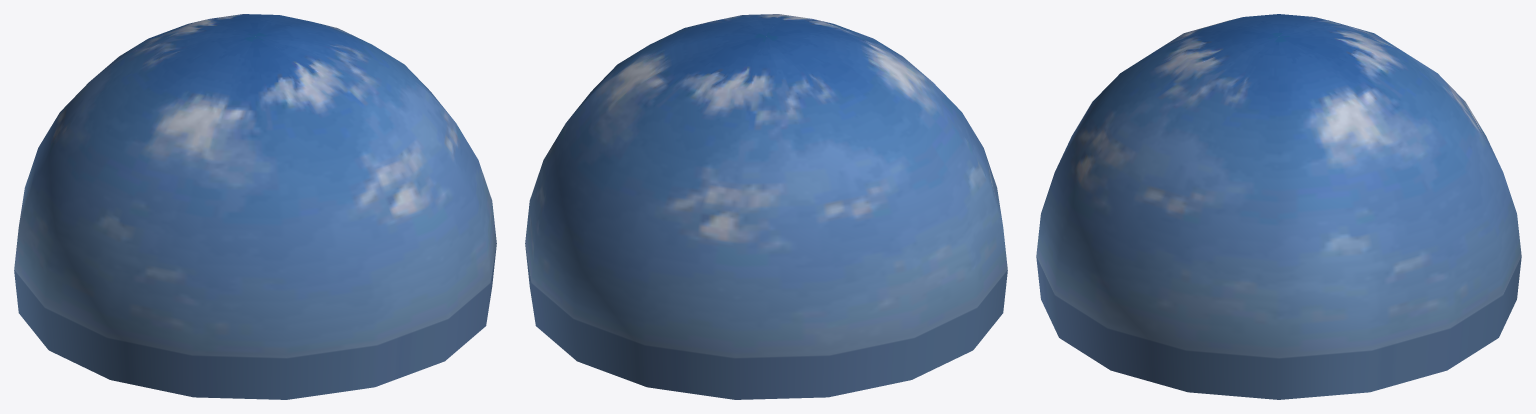
The picture shows the model from 3 angles, left to right: view 1: azimuth 30°, elevation 25°; view 2: azimuth 150°, elevation 25°; view 3: azimuth 270°, elevation 25°; orthographic projection.
Visible parts, largest first — view 1: vsn_mesh_10_m_sky_sky_1024; view 2: vsn_mesh_10_m_sky_sky_1024; view 3: vsn_mesh_10_m_sky_sky_1024.
Boxes of the visible parts, <box> form: vsn_mesh_10_m_sky_sky_1024: <box>14,14,496,399</box>; vsn_mesh_10_m_sky_sky_1024: <box>525,14,1007,399</box>; vsn_mesh_10_m_sky_sky_1024: <box>1036,14,1521,399</box>.
Size of the model in its own units: 2927 by 1754 by 2927.
Materials: 15 (15 with a texture image).
